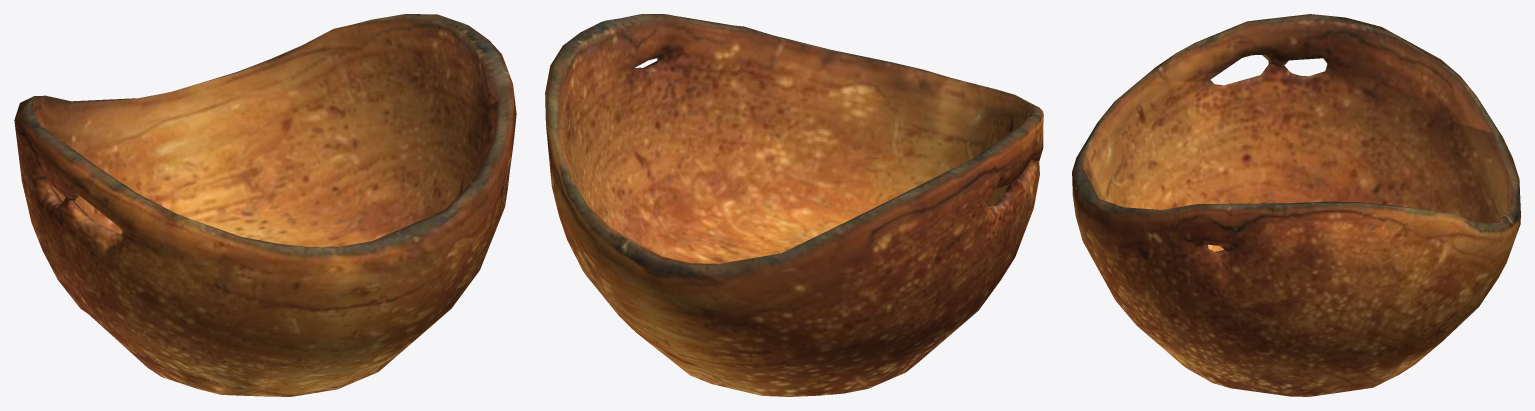
The model's file is wooden_bowl_02.glb.
The picture shows the model from 3 angles, left to right: view 1: azimuth 30°, elevation 25°; view 2: azimuth 150°, elevation 25°; view 3: azimuth 270°, elevation 25°; orthographic projection. The views are drawn at different scales.
Visible parts, largest first — view 1: wooden_bowl_02; view 2: wooden_bowl_02; view 3: wooden_bowl_02.
Part boxes in pixels (<box>): wooden_bowl_02: <box>14,14,516,396</box>; wooden_bowl_02: <box>545,14,1043,396</box>; wooden_bowl_02: <box>1072,14,1520,396</box>.
Bounding box in the file's own units: 0.1302 × 0.0731 × 0.124.
Materials: 1 (1 with a texture image).
